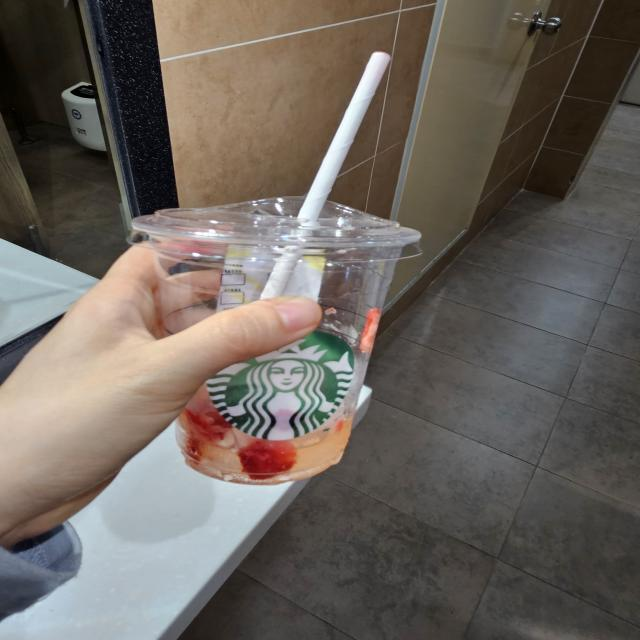cup: (120, 183, 426, 492)
